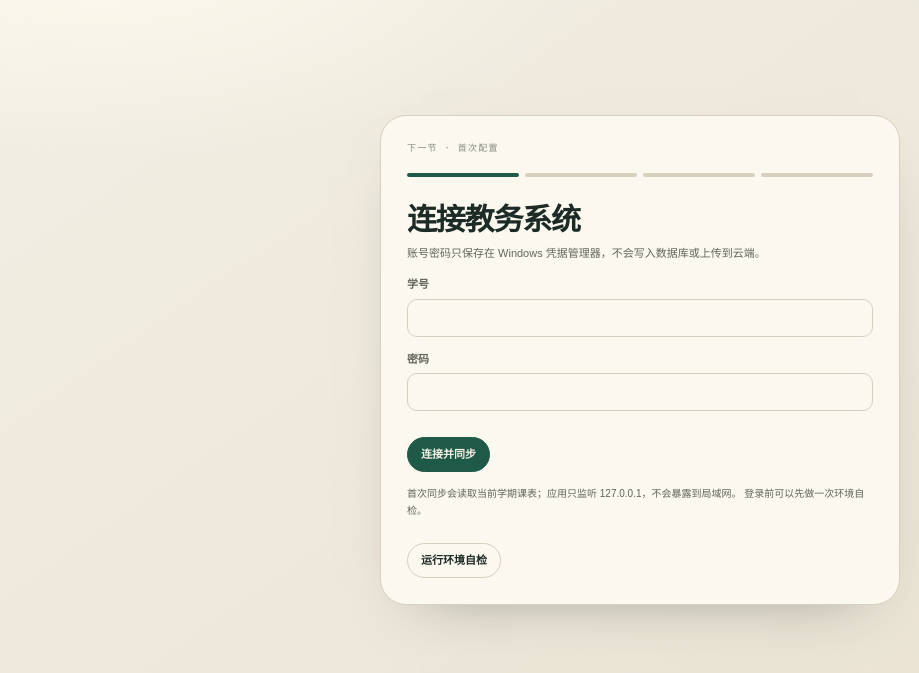
it: SetupWizard › validates the school form and advances to the push step
The width and height of the screenshot is (919, 673).
Click the button "连接并同步" at (448, 455), box [407, 437, 490, 472]
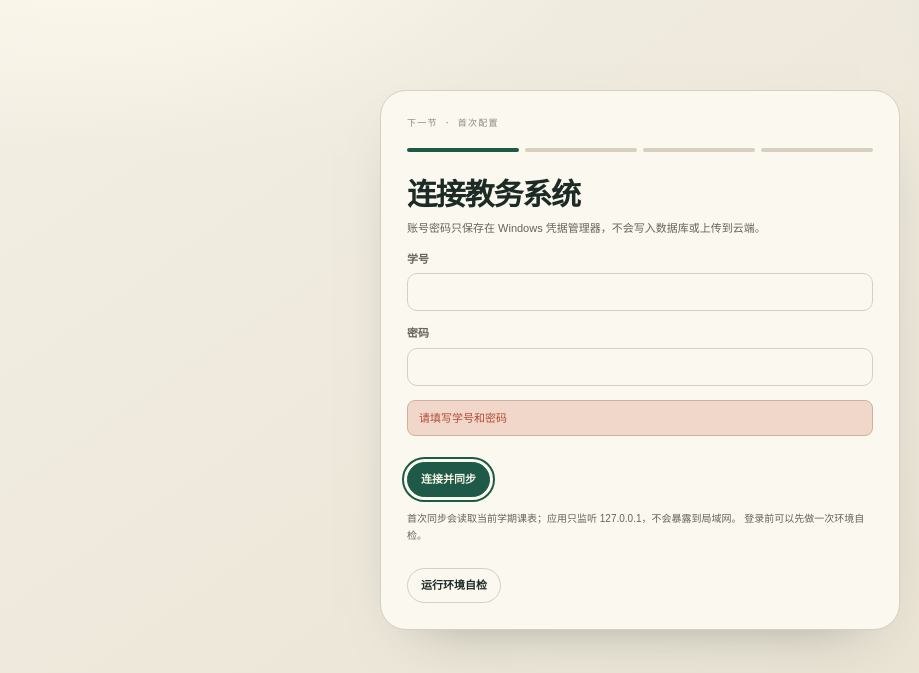
expect the text "请填写学号和密码" is shown: met, box [407, 400, 873, 436]
Type "20250001" into the field labelled "学号" at (640, 292), box [407, 273, 873, 311]
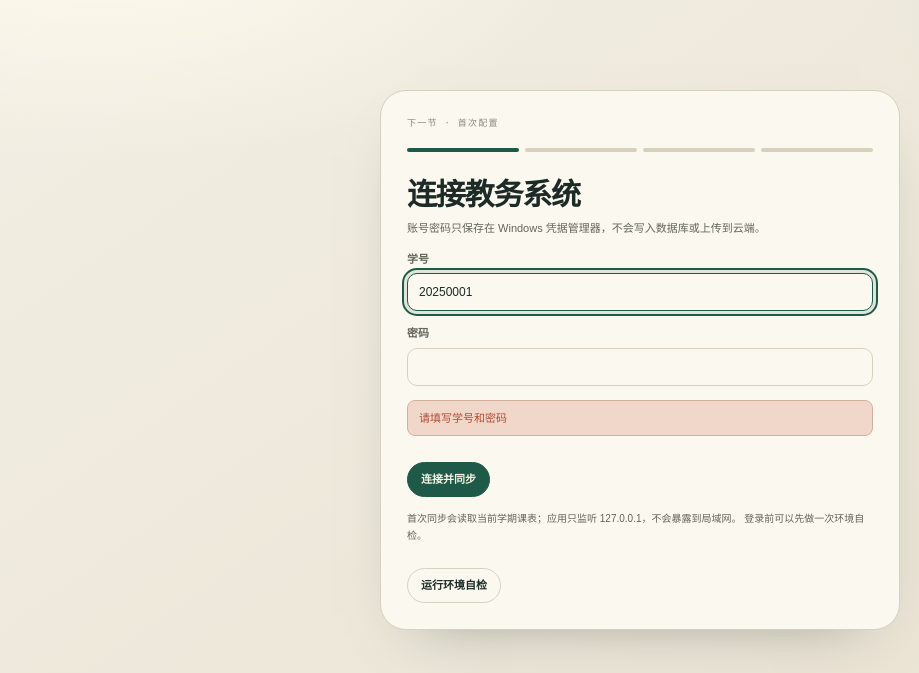
Type "pw" into the password field labelled "密码" at (640, 367), box [407, 348, 873, 386]
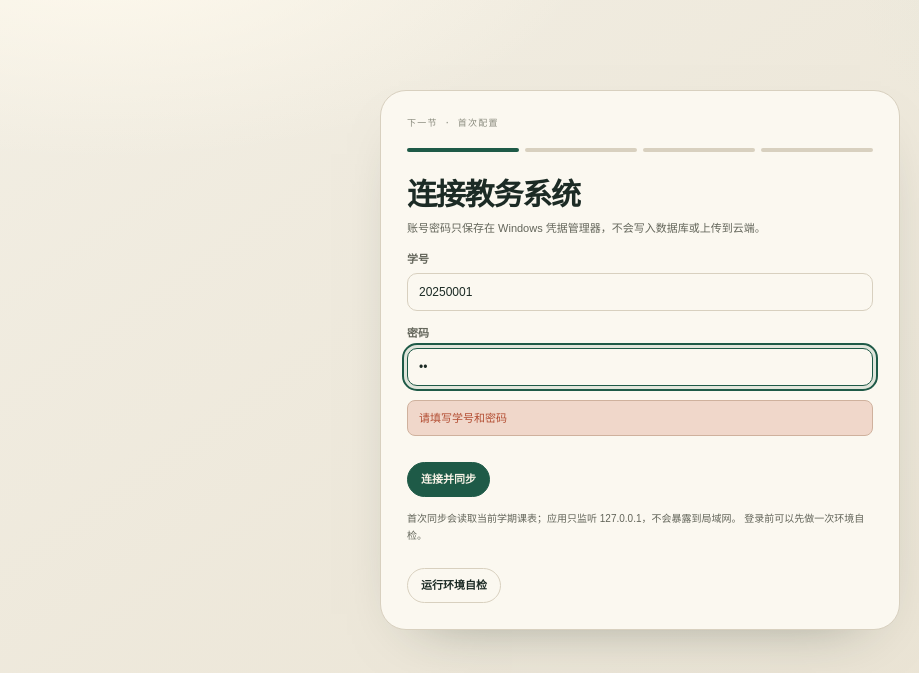
Click the button "连接并同步" at (448, 480), box [407, 462, 490, 497]
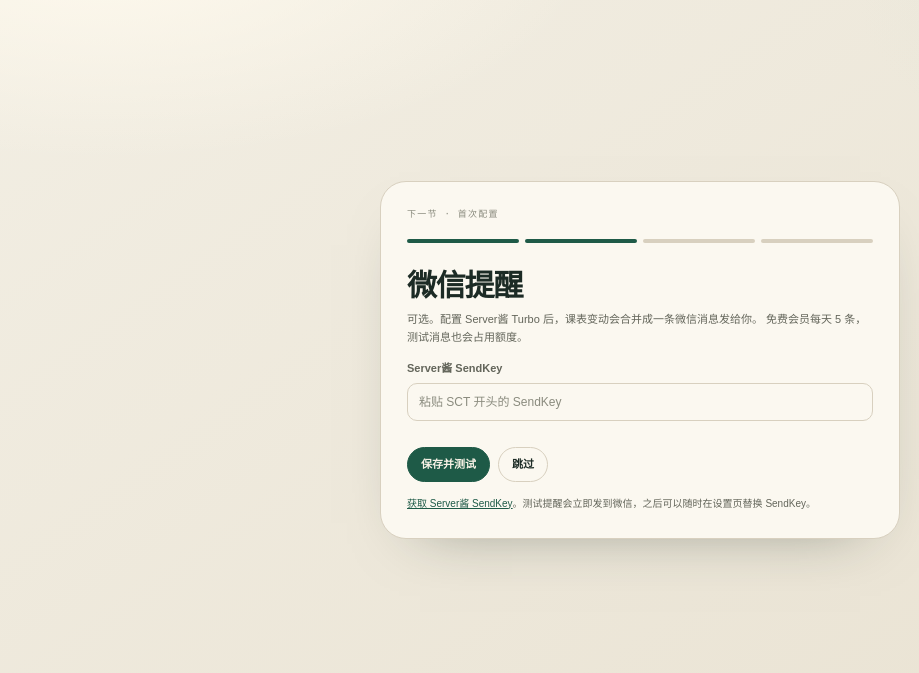
expect the heading "微信提醒" is shown: met, box [407, 269, 522, 302]
